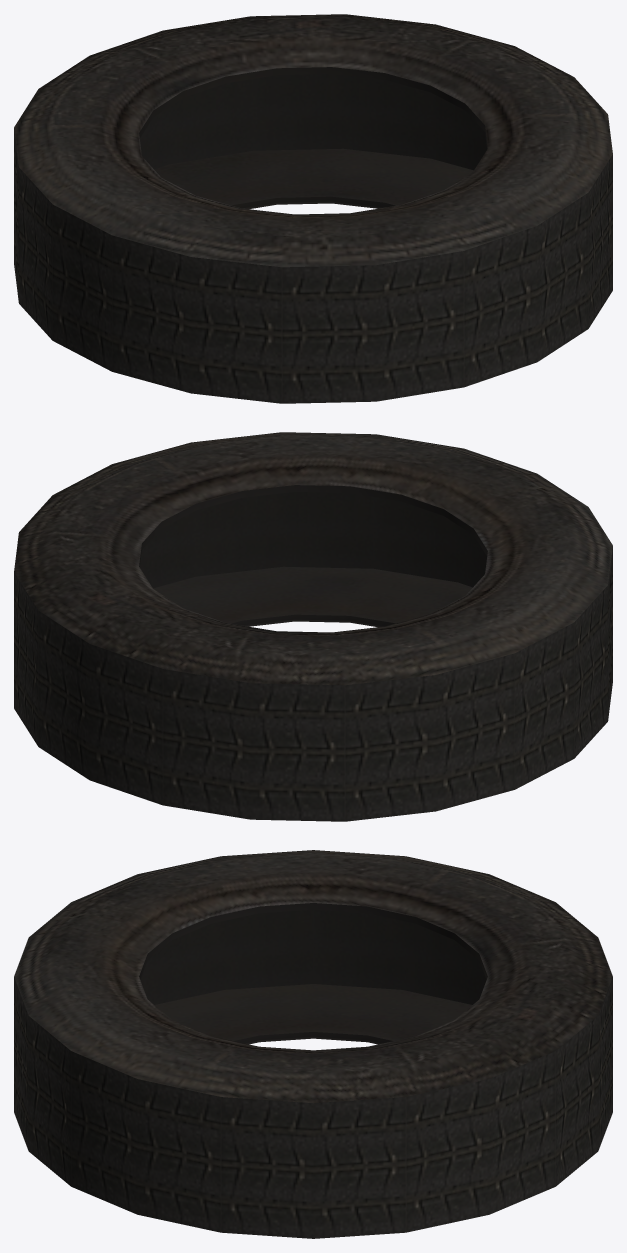
Rendered from tire_1.dae.
3 views of the same model, one above another, from view 1: azimuth 30°, elevation 25°; view 2: azimuth 150°, elevation 25°; view 3: azimuth 270°, elevation 25° (orthographic).
Visible parts, largest first — view 1: tire_1; view 2: tire_1; view 3: tire_1.
Part boxes in pixels (x1,y1,x2,y2): tire_1: [14, 14, 612, 403]; tire_1: [14, 432, 612, 821]; tire_1: [14, 850, 612, 1238].
Size of the model in its own units: 0.8 by 0.8 by 0.2366.
Materials: 1 (1 with a texture image).
